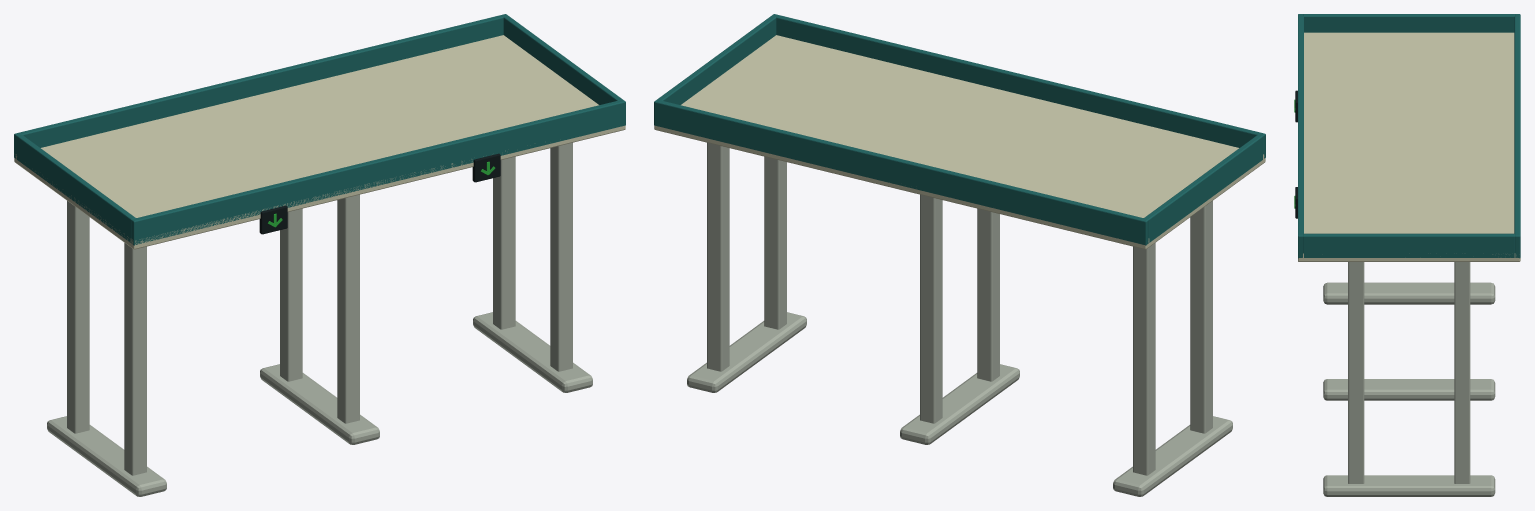
Rendered from malaysia-toll-plaza-canopy-reopened-edit.glb.
The picture shows the model from 3 angles, left to right: view 1: azimuth 30°, elevation 25°; view 2: azimuth 150°, elevation 25°; view 3: azimuth 270°, elevation 25°; orthographic projection. The views are drawn at different scales.
Visible parts, largest first — view 1: ROOF_Soffit, FASCIA_Teal, FASCIA_Teal.001, COLUMN_Canopy.001, COLUMN_Canopy.003, COLUMN_Canopy.005, COLUMN_Canopy.002, COLUMN_Canopy.004, COLUMN_Canopy, FASCIA_End, BASE_Island.001, BASE_Island.002 (+2 smaller); view 2: ROOF_Soffit, FASCIA_Teal.001, FASCIA_Teal, COLUMN_Canopy.002, COLUMN_Canopy.004, COLUMN_Canopy, COLUMN_Canopy.001, COLUMN_Canopy.003, COLUMN_Canopy.005, FASCIA_End, BASE_Island.001, BASE_Island.002 (+2 smaller); view 3: ROOF_Soffit, FASCIA_End.001, FASCIA_End, COLUMN_Canopy, COLUMN_Canopy.005, BASE_Island, BASE_Island.001, BASE_Island.002, FASCIA_Teal.001, FASCIA_Teal.
Boxes of the visible parts, x1,y1,x2,y2 form: ROOF_Soffit: [14, 35, 625, 249]; FASCIA_Teal: [131, 99, 625, 245]; FASCIA_Teal.001: [14, 14, 508, 158]; COLUMN_Canopy.001: [124, 243, 146, 475]; COLUMN_Canopy.003: [337, 194, 359, 423]; COLUMN_Canopy.005: [550, 142, 572, 371]; COLUMN_Canopy.002: [67, 201, 89, 433]; COLUMN_Canopy.004: [280, 208, 302, 381]; COLUMN_Canopy: [493, 156, 515, 329]; FASCIA_End: [17, 134, 135, 242]; BASE_Island.001: [47, 416, 166, 496]; BASE_Island.002: [260, 364, 379, 444]; ROOF_Soffit: [654, 35, 1265, 249]; FASCIA_Teal.001: [654, 99, 1148, 245]; FASCIA_Teal: [771, 14, 1265, 158]; COLUMN_Canopy.002: [1133, 243, 1155, 475]; COLUMN_Canopy.004: [920, 194, 942, 423]; COLUMN_Canopy: [707, 142, 729, 371]; COLUMN_Canopy.001: [1190, 201, 1212, 433]; COLUMN_Canopy.003: [977, 208, 999, 381]; COLUMN_Canopy.005: [764, 156, 786, 329]; FASCIA_End: [1144, 134, 1262, 242]; BASE_Island.001: [1113, 416, 1232, 496]; BASE_Island.002: [900, 364, 1019, 444]; ROOF_Soffit: [1298, 32, 1520, 261]; FASCIA_End.001: [1303, 233, 1514, 257]; FASCIA_End: [1303, 14, 1514, 32]; COLUMN_Canopy: [1454, 262, 1470, 483]; COLUMN_Canopy.005: [1348, 262, 1364, 483]; BASE_Island: [1323, 475, 1495, 496]; BASE_Island.001: [1323, 282, 1495, 304]; BASE_Island.002: [1323, 379, 1495, 400]; FASCIA_Teal.001: [1514, 14, 1520, 258]; FASCIA_Teal: [1298, 14, 1303, 258].
Bounding box in the file's own units: 10.4 × 5.9 × 4.47.
